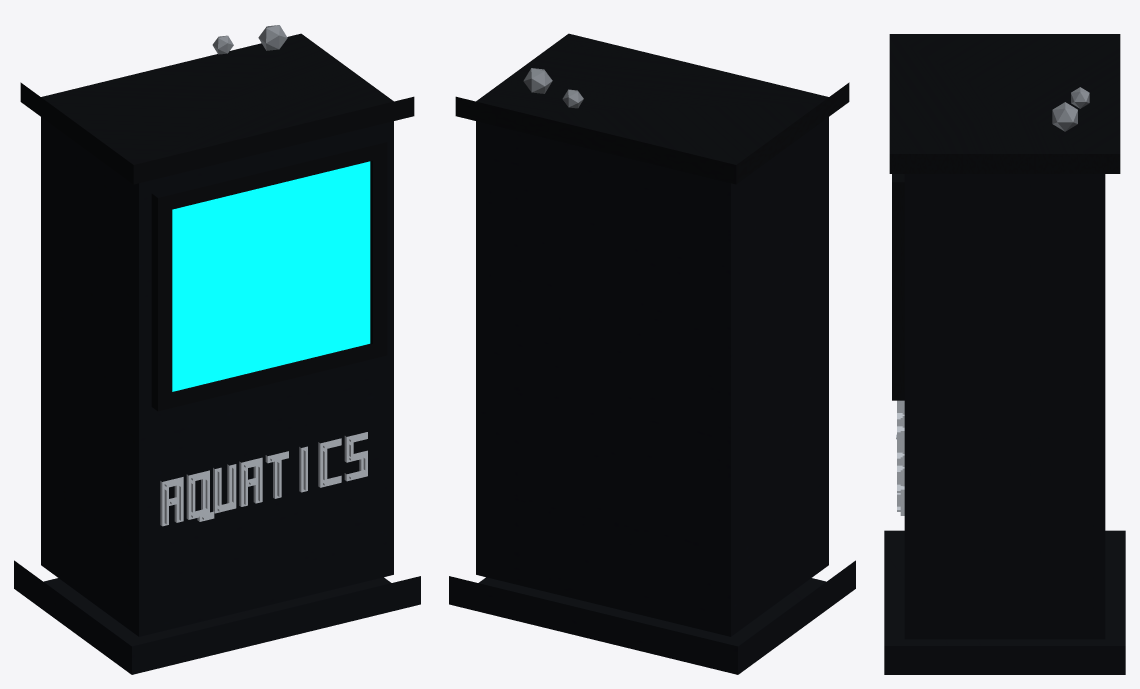
File: v3_river_plinth.glb
3 renders of one model, left to right at view 1: azimuth 30°, elevation 25°; view 2: azimuth 150°, elevation 25°; view 3: azimuth 270°, elevation 25°, orthographic. The views are drawn at different scales.
Visible parts, largest first — view 1: Plinth_Body, Info_Screen, Plinth_Top, Screen_Frame, Wayfinding_Glyphs, Top_Pebbles; view 2: Plinth_Body, Plinth_Top, Top_Pebbles; view 3: Plinth_Body, Plinth_Top, Screen_Frame, Wayfinding_Glyphs, Top_Pebbles.
Boxes of the visible parts, x1,y1,x2,y2 form: Plinth_Body: [14, 117, 420, 674]; Info_Screen: [172, 161, 370, 391]; Plinth_Top: [20, 33, 414, 184]; Screen_Frame: [151, 142, 387, 411]; Wayfinding_Glyphs: [160, 432, 367, 526]; Top_Pebbles: [212, 25, 287, 54]; Plinth_Body: [449, 117, 855, 674]; Plinth_Top: [455, 33, 849, 184]; Top_Pebbles: [523, 68, 583, 108]; Plinth_Body: [884, 174, 1125, 674]; Plinth_Top: [889, 34, 1120, 173]; Screen_Frame: [892, 174, 904, 400]; Wayfinding_Glyphs: [896, 400, 904, 515]; Top_Pebbles: [1052, 87, 1089, 131].
Size of what is drawn, in the model's own units: 0.68 by 1.19 by 0.48.
Materials: 5 (3 with a texture image).
